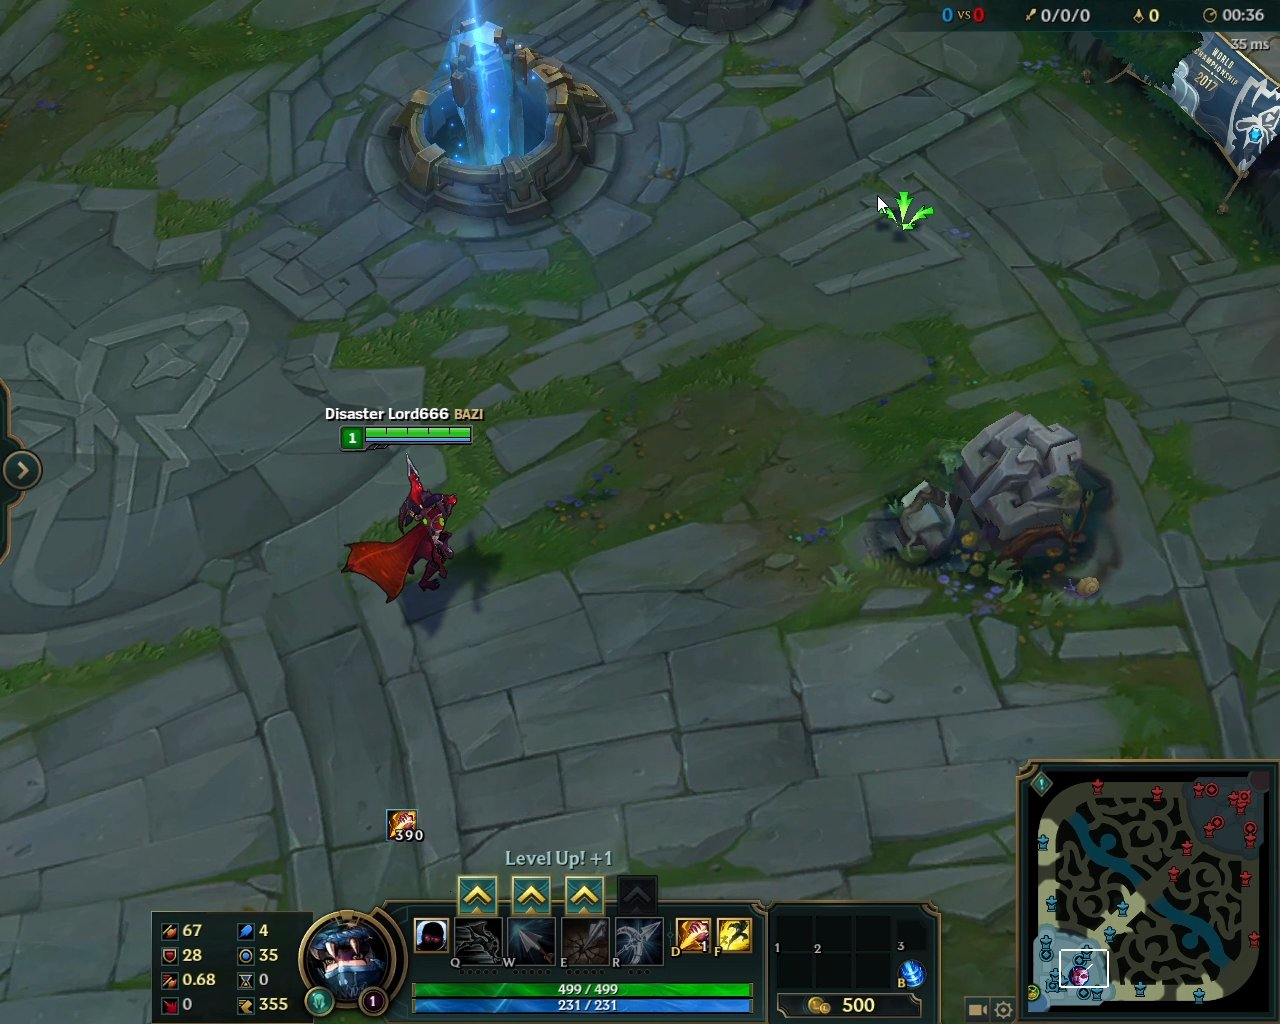Vayne: (341, 452, 463, 616)
